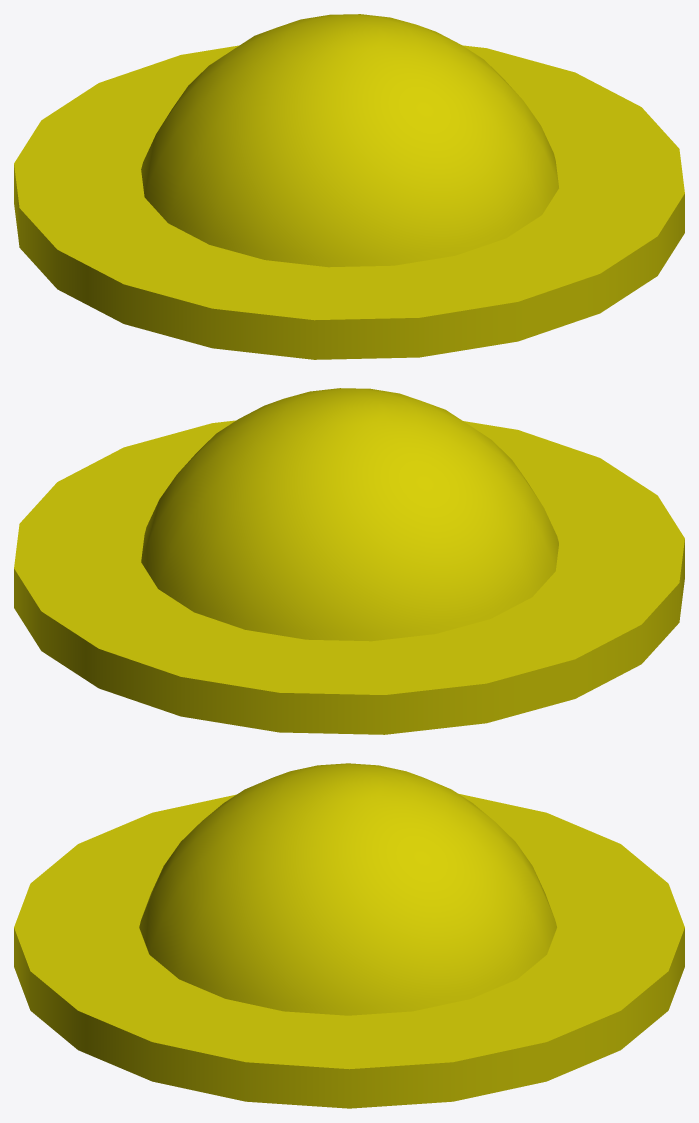
The model's file is Farmer_Hat.fbx.
3 renders of one model, top to bottom at view 1: azimuth 30°, elevation 25°; view 2: azimuth 150°, elevation 25°; view 3: azimuth 270°, elevation 25°, orthographic.
Visible parts, largest first — view 1: FarmerHat; view 2: FarmerHat; view 3: FarmerHat.
Boxes of the visible parts, x1,y1,x2,y2 form: FarmerHat: (14, 14, 684, 359); FarmerHat: (14, 388, 684, 734); FarmerHat: (14, 763, 684, 1108).
Bounding box in the file's own units: 2.4 × 0.7231 × 2.4.
